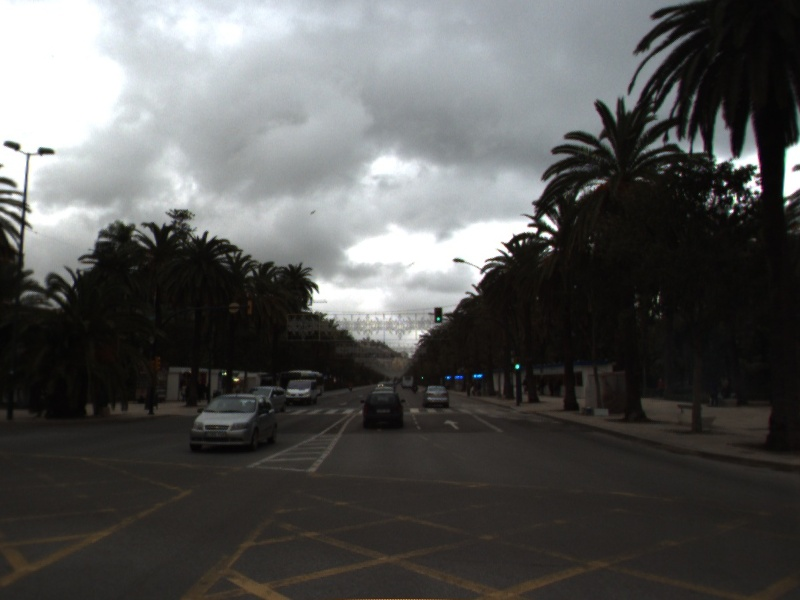STRAIGHT: (441, 418, 462, 432)
